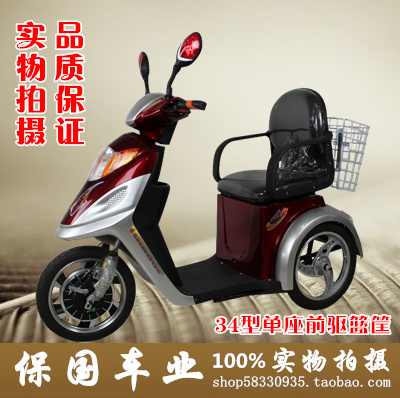电动车: (32, 27, 378, 340)
